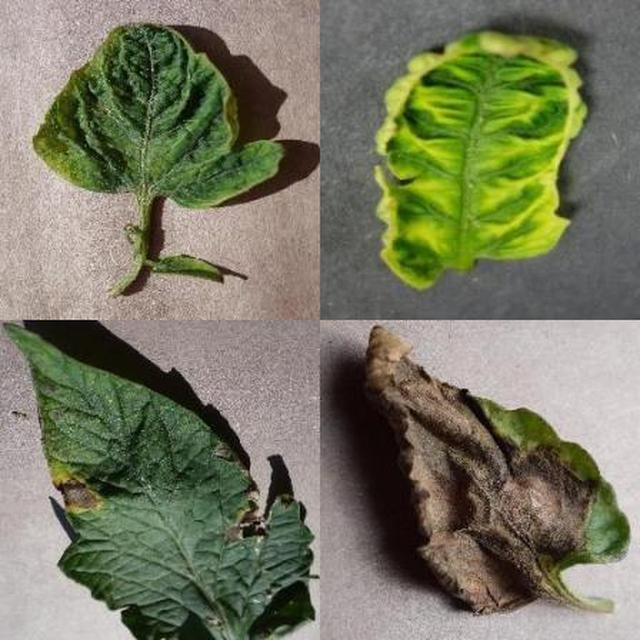Yellow Leaf Curl Virus: (226, 167, 640, 640)
